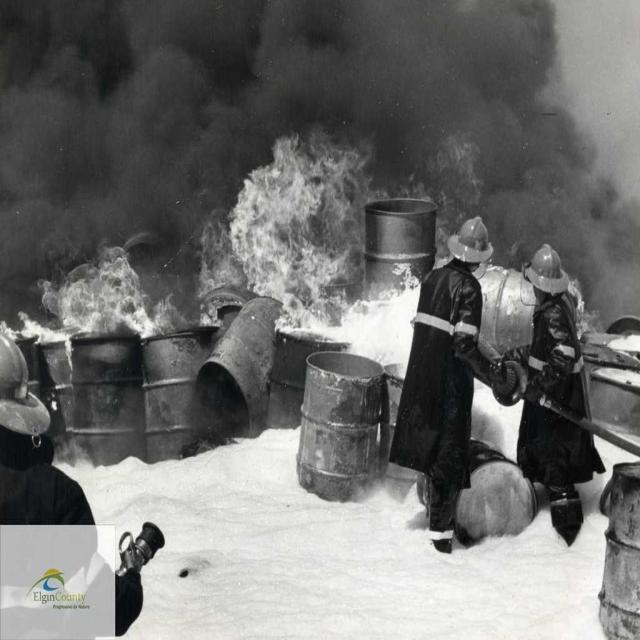Fire: (250, 177, 340, 309), (347, 294, 418, 362)
